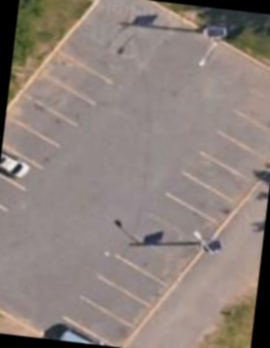parkingspot: (36, 62, 270, 348), (0, 45, 120, 234)
